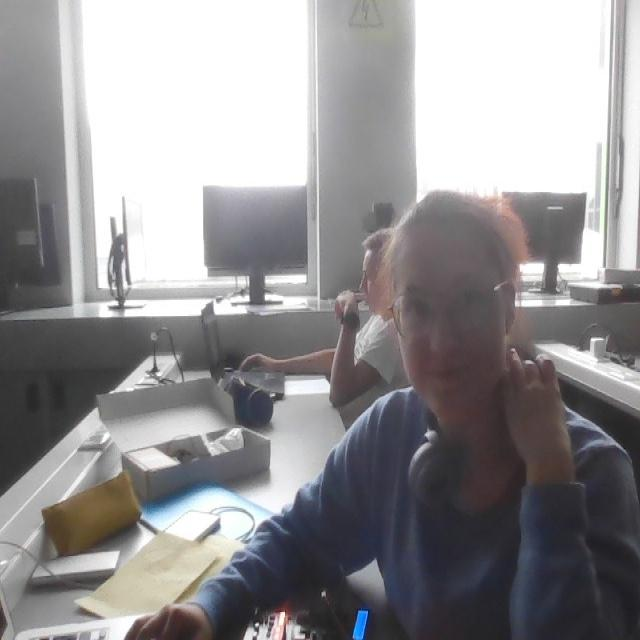opened_eye: (454, 287, 486, 307), (405, 298, 434, 319)
